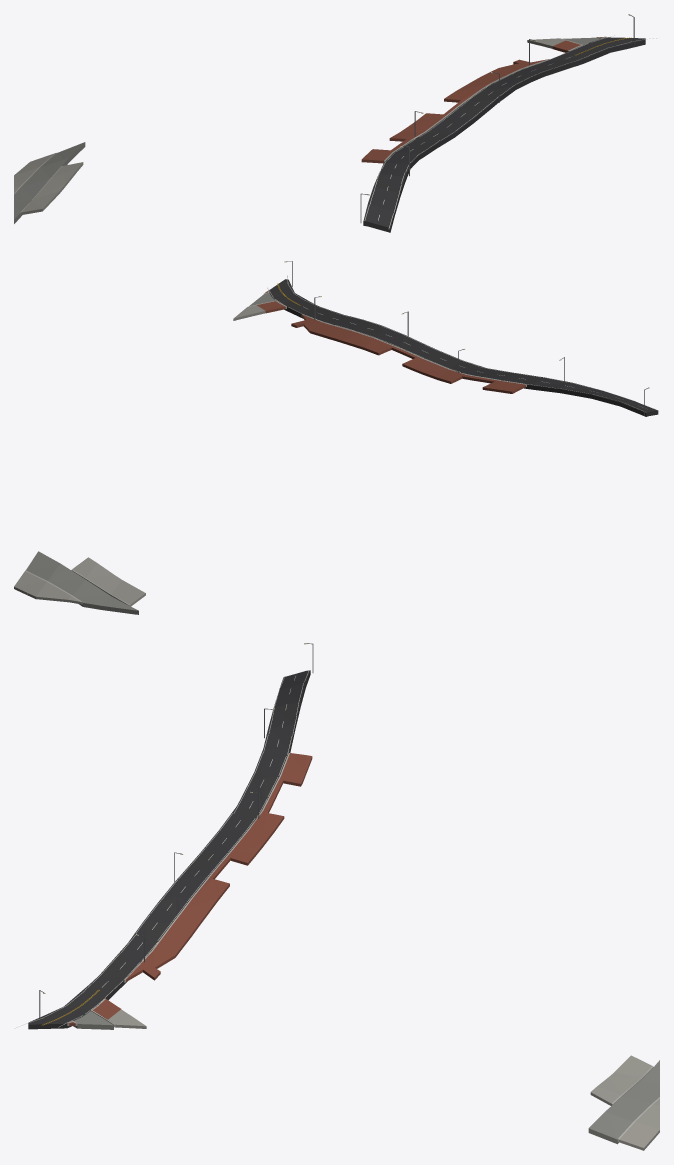
3 renders of one model, top to bottom at view 1: azimuth 90°, elevation 25°; view 2: azimuth 150°, elevation 25°; view 3: azimuth 270°, elevation 25°, orthographic. The views are drawn at different scales.
Size of the model in its own units: 149 by 60.85 by 149.
